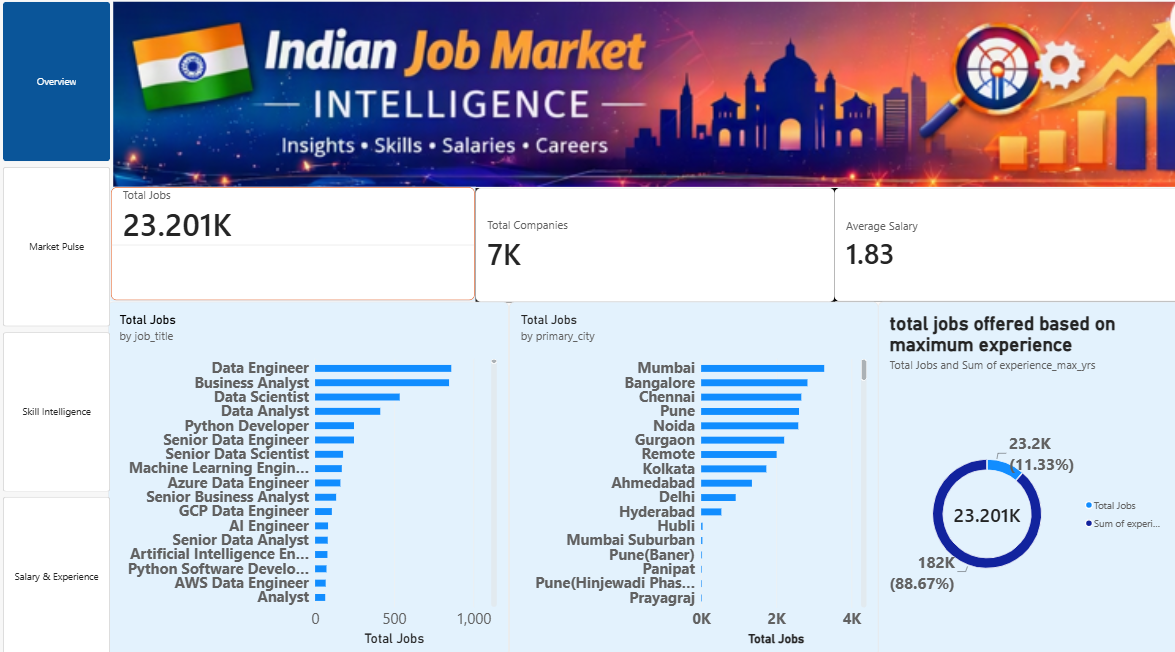

This screenshot's page, from the dashboard's own definition file:
{"tool":"powerbi","page":{"name":"Overview","canvas":[1920,1080],"ordinal":0},"visuals":[{"type":"image","box":[124.9,92.3,1795.2,267.8],"z":0},{"type":"cardVisual","fields":{"Data":["JobData.Total Jobs"]},"box":[249.7,360.1,528.6,165.3],"z":1000},{"type":"cardVisual","fields":{"Data":["JobData.Total Companies"]},"box":[778.2,361.9,520.4,165.3],"z":2000},{"type":"cardVisual","fields":{"Data":["JobData.Average Salary"]},"box":[1297.5,361.9,501.8,164.3],"z":3000},{"type":"clusteredBarChart","fields":{"Category":["JobData.job_title"],"Y":["JobData.Total Jobs"]},"box":[246.1,526.6,580,514.5],"z":4000},{"type":"clusteredBarChart","fields":{"Category":["JobData.primary_city"],"Y":["JobData.Total Jobs"]},"box":[827,526.6,534.5,514.5],"z":5000},{"type":"donutChart","title":"total jobs offered based on maximum experience","fields":{"Y":["JobData.Total Jobs","Sum(JobData.experience_max_yrs)"]},"box":[1360.9,526.6,438.2,514.5],"z":6000},{"type":"pageNavigator","box":[94.1,92.3,155.6,948.3],"z":6001}]}

Visuals, with their boxes on the page's 1920x1080 design canvas (x1, y1, x2, y2). These are canvas units, not pixel positions in the 1175x652 screenshot, which may show the page scaled, cropped or inside an application window:
image: bbox(125, 92, 1920, 360)
cardVisual - JobData.Total Jobs: bbox(250, 360, 778, 525)
cardVisual - JobData.Total Companies: bbox(778, 362, 1299, 527)
cardVisual - JobData.Average Salary: bbox(1298, 362, 1799, 526)
clusteredBarChart - JobData.job_title x JobData.Total Jobs: bbox(246, 527, 826, 1041)
clusteredBarChart - JobData.primary_city x JobData.Total Jobs: bbox(827, 527, 1362, 1041)
"total jobs offered based on maximum experience" donutChart: bbox(1361, 527, 1799, 1041)
pageNavigator: bbox(94, 92, 250, 1041)
